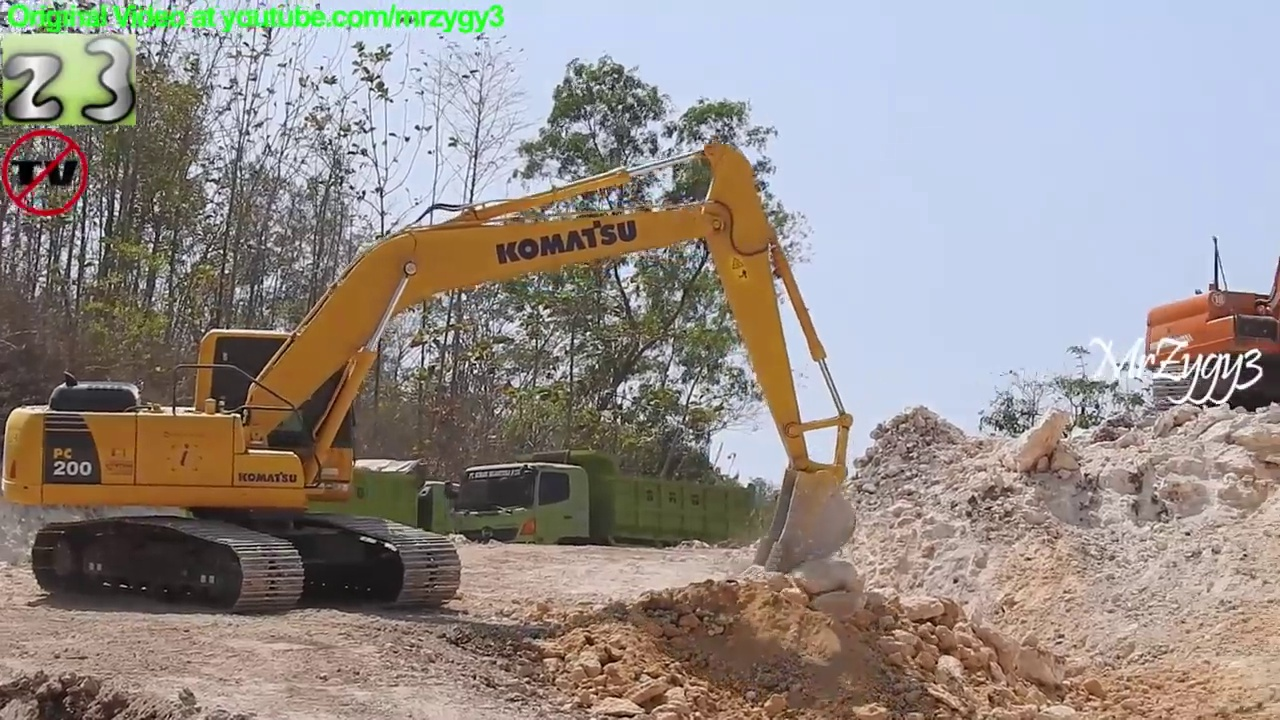excavator: (2, 131, 879, 621)
truck: (448, 444, 750, 576)
